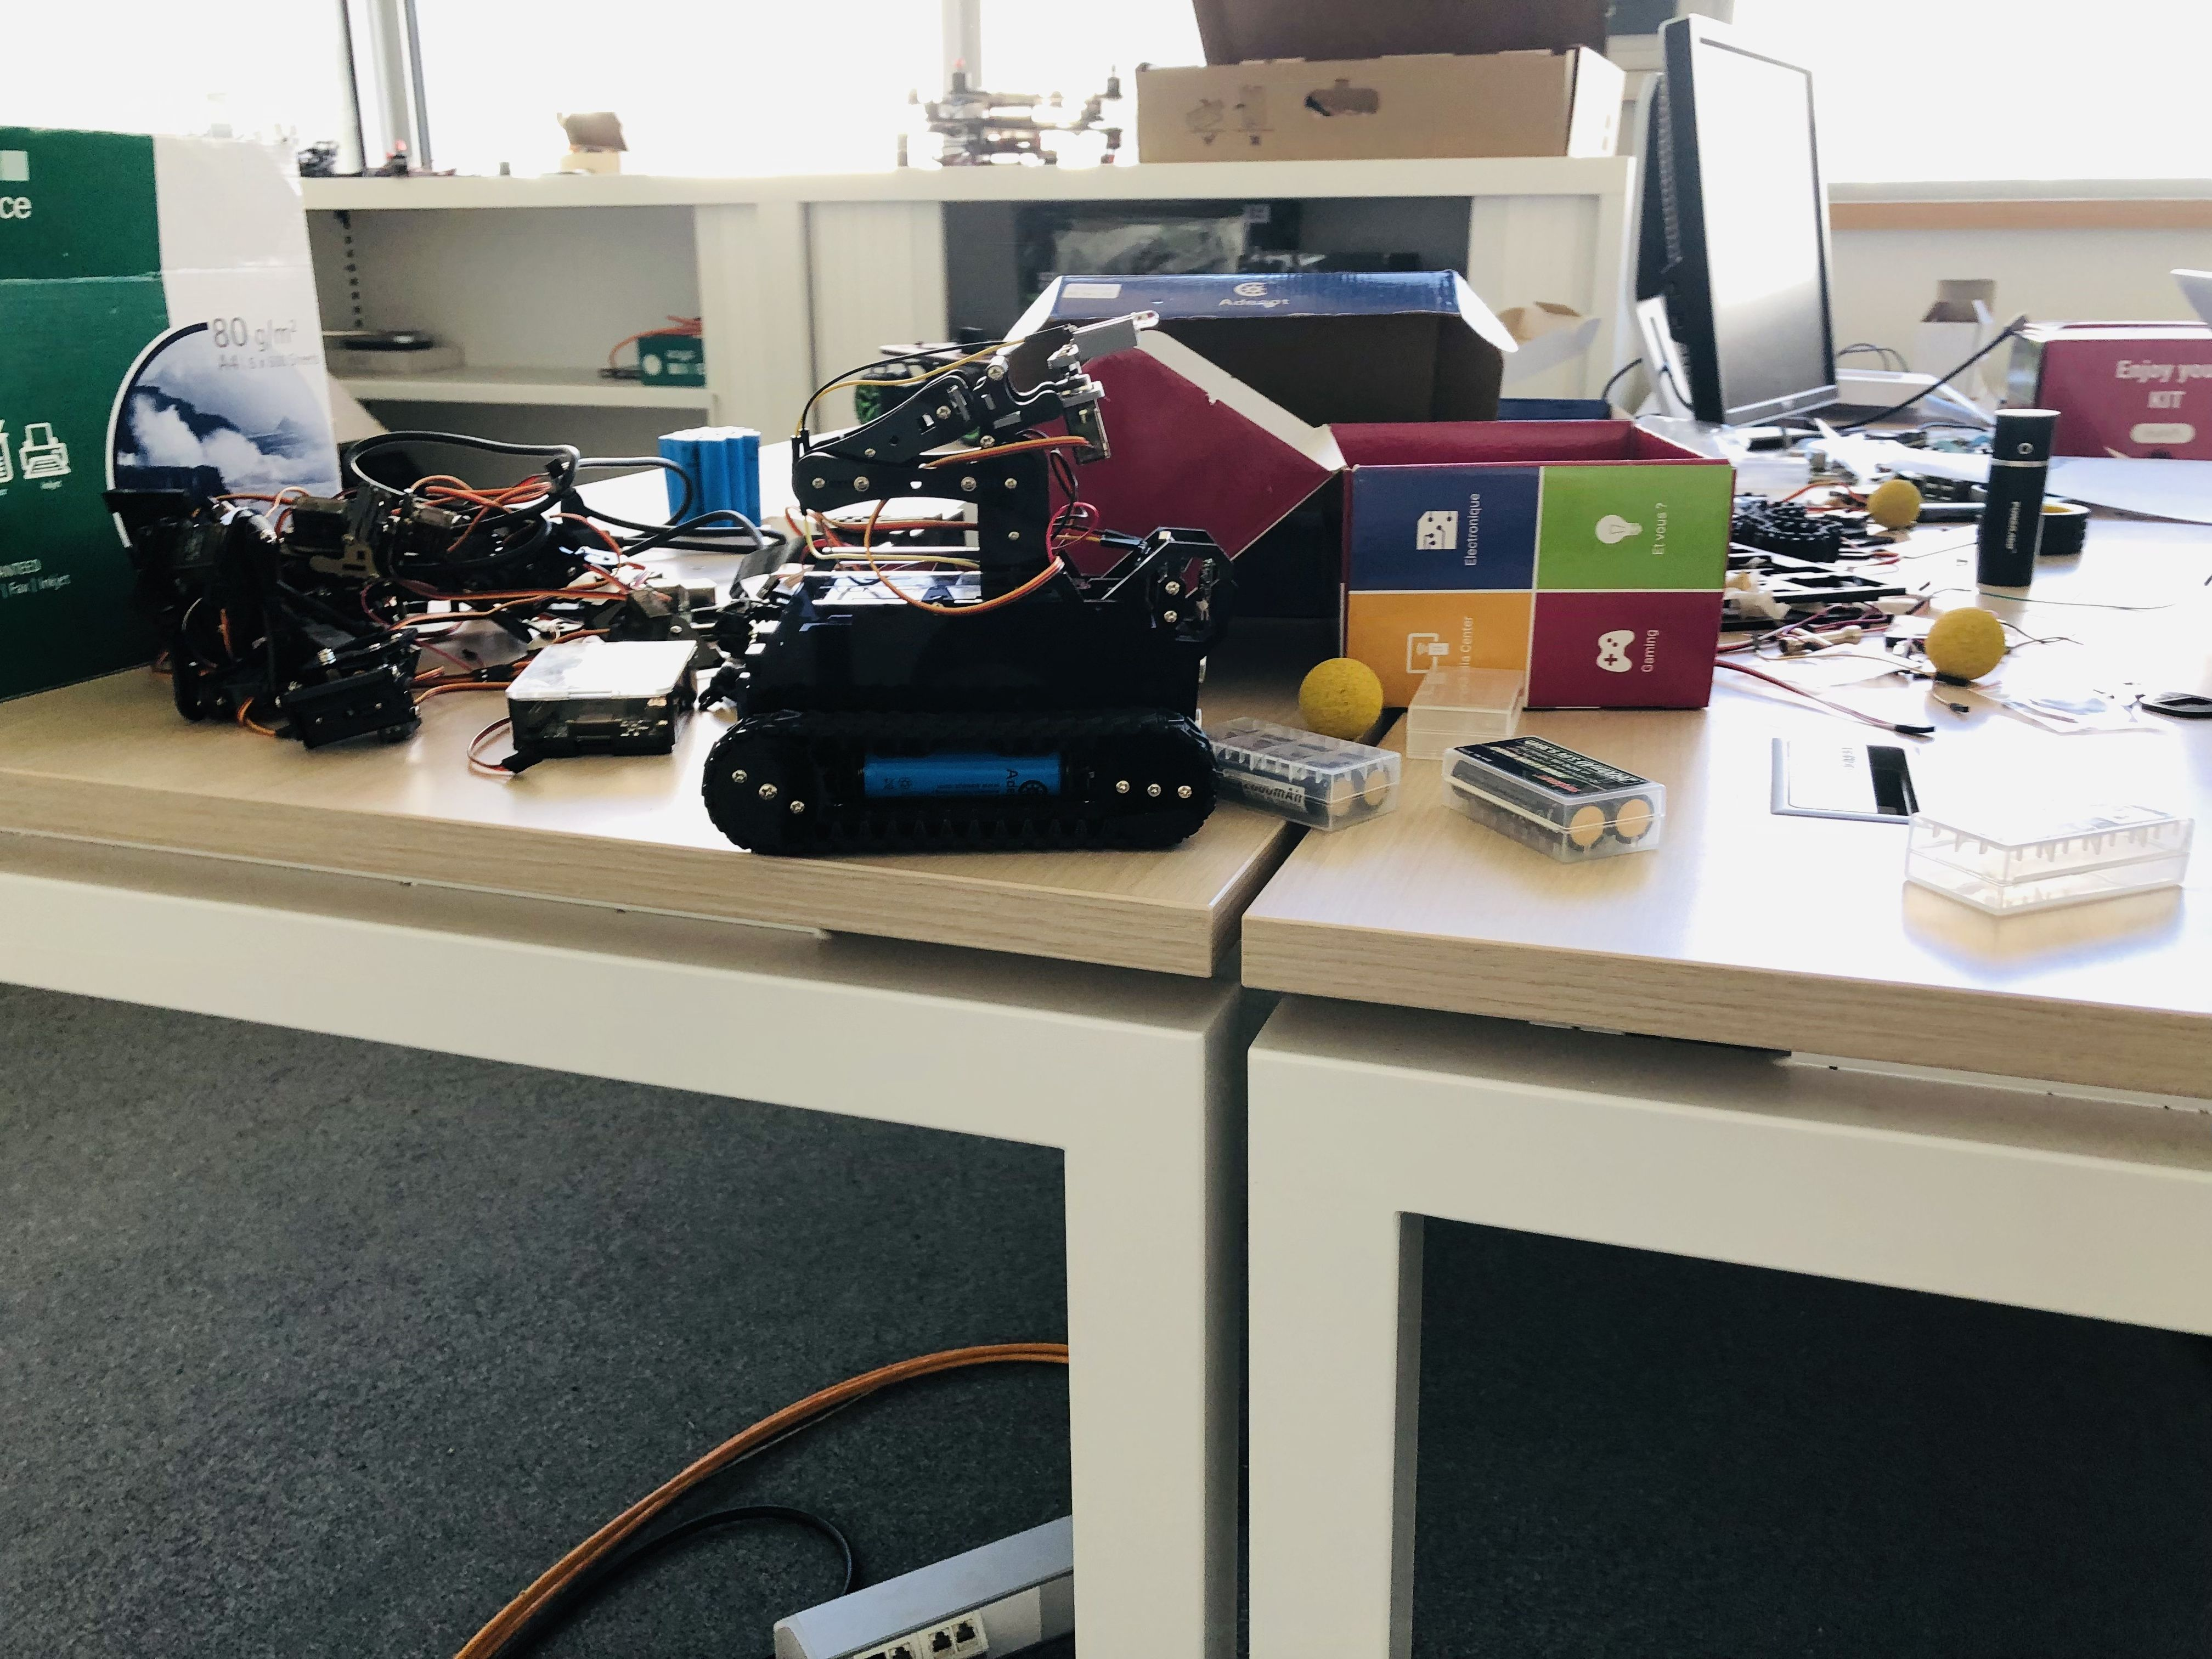rasptank: (700, 300, 1223, 864)
